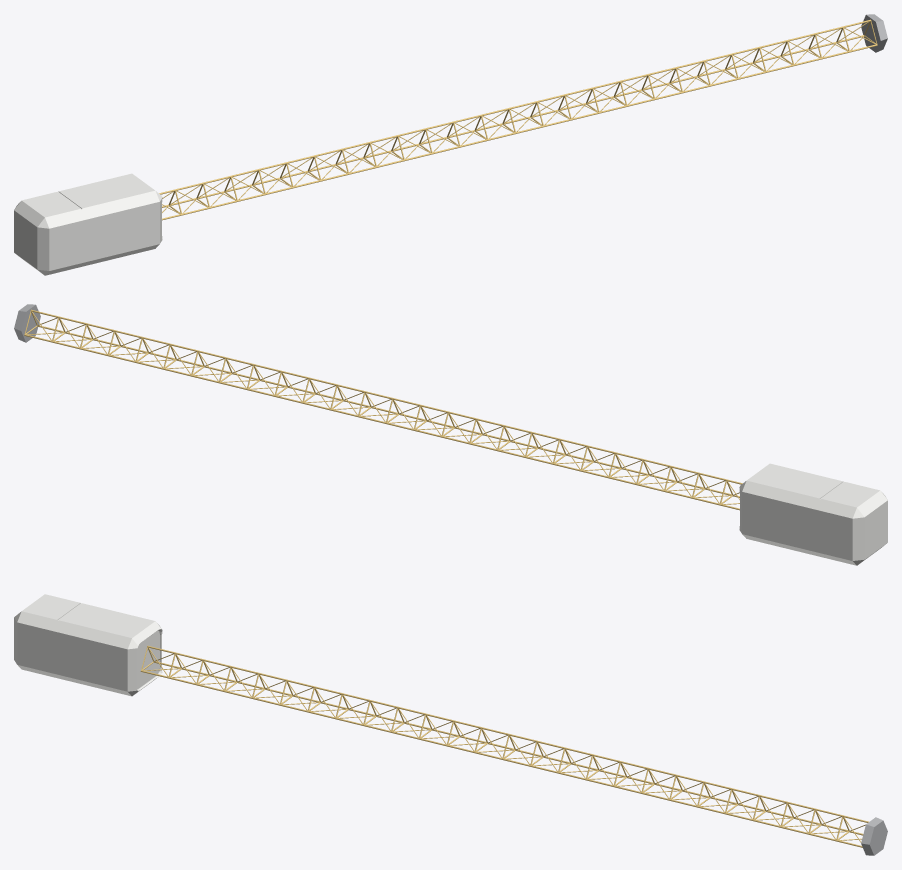
Rendered from ax_gear_12_deployable_boom_m_deployed.glb.
The picture shows the model from 3 angles, top to bottom: view 1: azimuth 30°, elevation 25°; view 2: azimuth 150°, elevation 25°; view 3: azimuth 330°, elevation 25°; orthographic projection.
Visible parts, largest first — view 1: boom_canister, boom_lattice, boom_tip; view 2: boom_canister, boom_lattice, boom_tip; view 3: boom_canister, boom_lattice, boom_tip.
Boxes of the visible parts, left/top/right/bottom form: boom_canister: left=14, top=173, right=162, bottom=275; boom_lattice: left=159, top=19, right=877, bottom=220; boom_tip: left=861, top=14, right=887, bottom=52; boom_canister: left=739, top=463, right=887, bottom=565; boom_lattice: left=24, top=309, right=742, bottom=510; boom_tip: left=14, top=304, right=40, bottom=342; boom_canister: left=14, top=594, right=162, bottom=696; boom_lattice: left=140, top=645, right=868, bottom=847; boom_tip: left=861, top=817, right=887, bottom=855.
Bounding box in the file's own units: 9.44 × 0.616 × 0.616.
